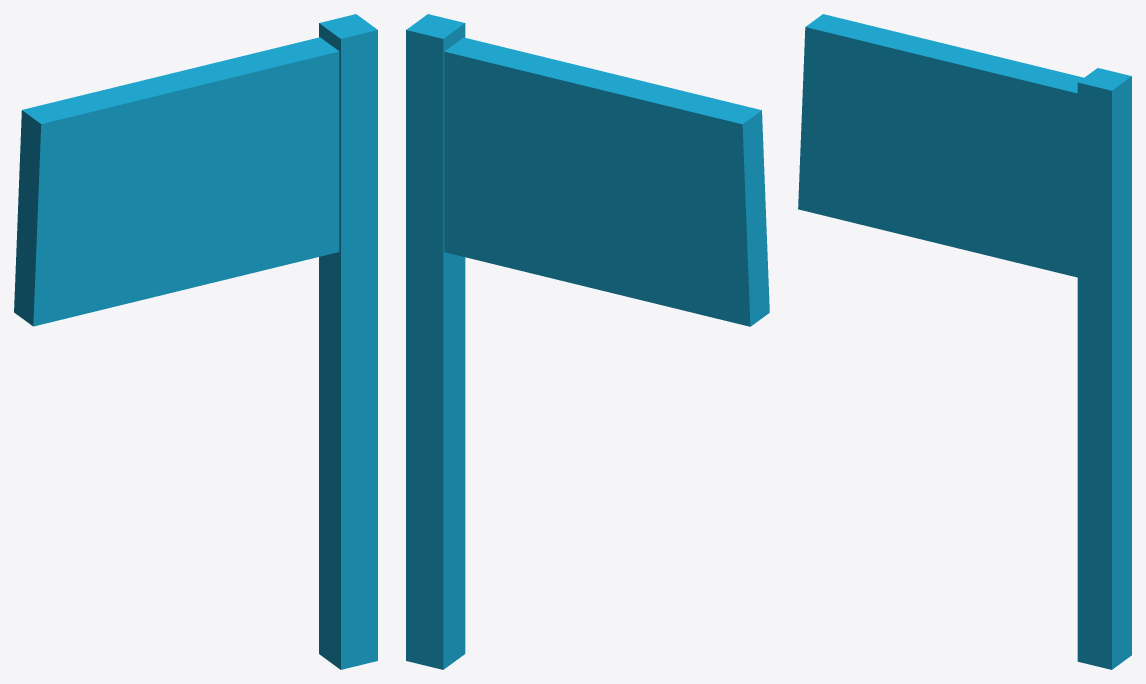
The model's file is flag.glb.
3 renders of one model, left to right at view 1: azimuth 30°, elevation 25°; view 2: azimuth 150°, elevation 25°; view 3: azimuth 330°, elevation 25°, orthographic. The views are drawn at different scales.
Visible parts, largest first — view 1: Cube; view 2: Cube; view 3: Cube.
Part boxes in pixels (left/top/right/bottom): Cube: left=14, top=14, right=377, bottom=669; Cube: left=406, top=14, right=769, bottom=669; Cube: left=798, top=14, right=1131, bottom=669.
Size of the model in its own units: 0.6616 by 1.16 by 0.0729.
